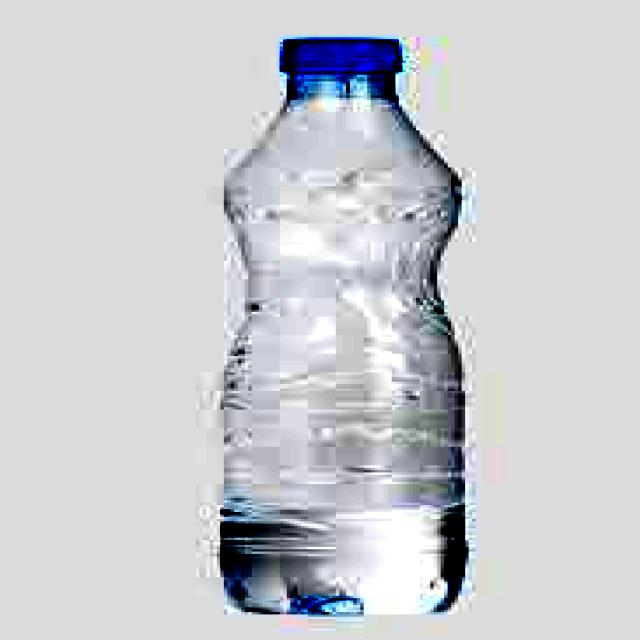Plastic: (212, 36, 478, 624)
